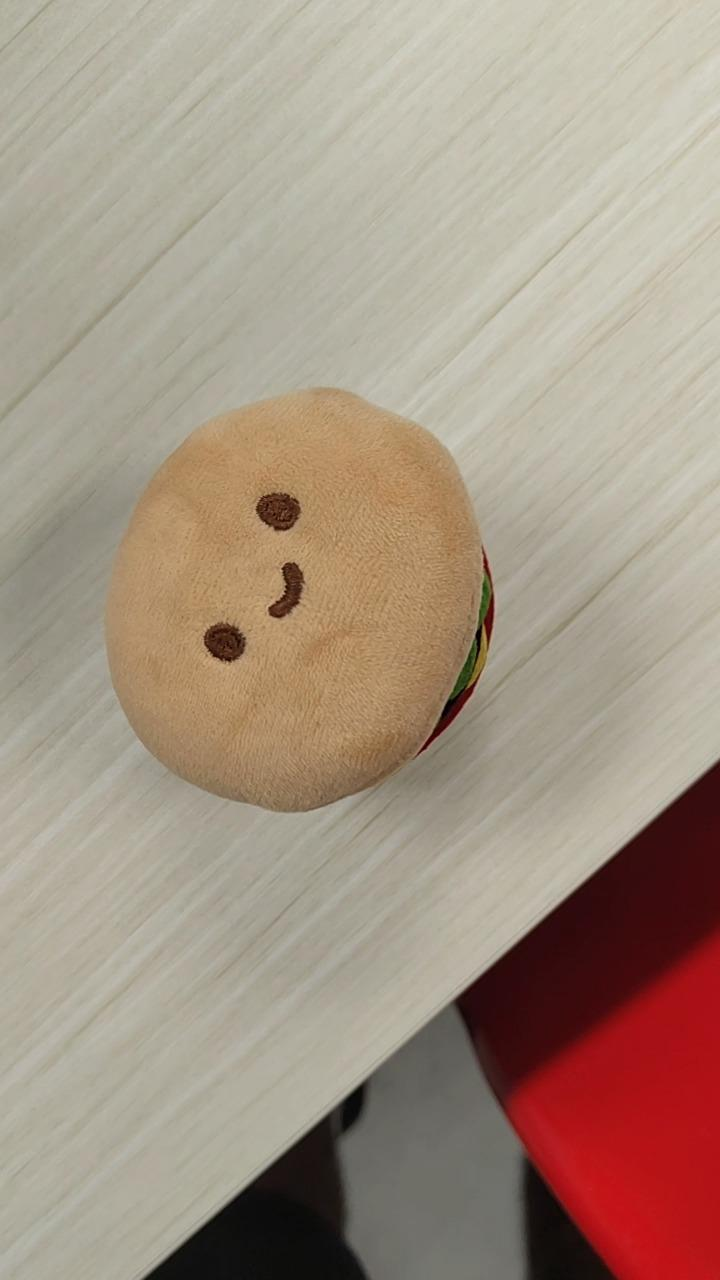hamburger: (102, 384, 496, 814)
